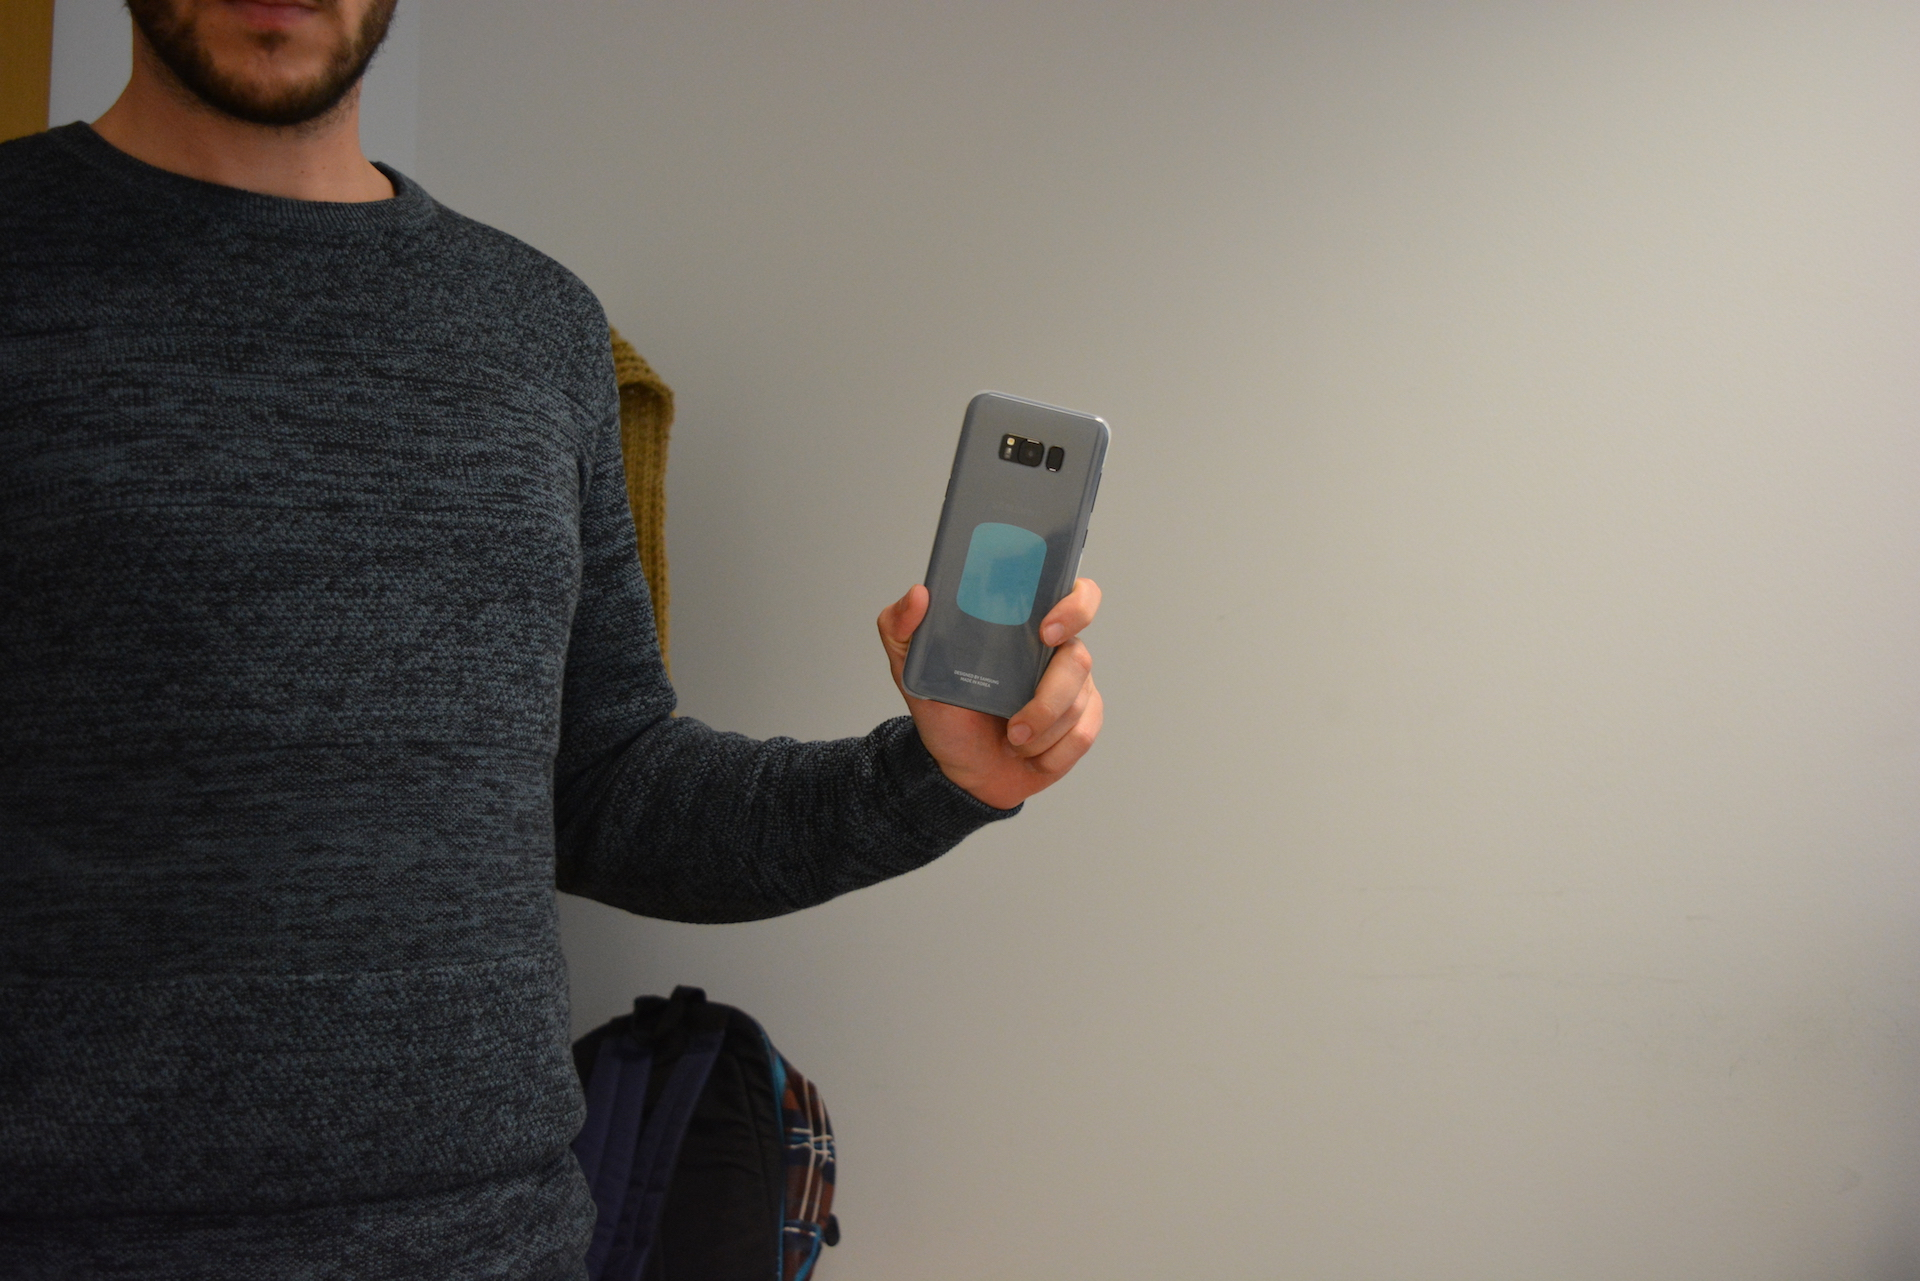smartphone: (901, 387, 1114, 723)
